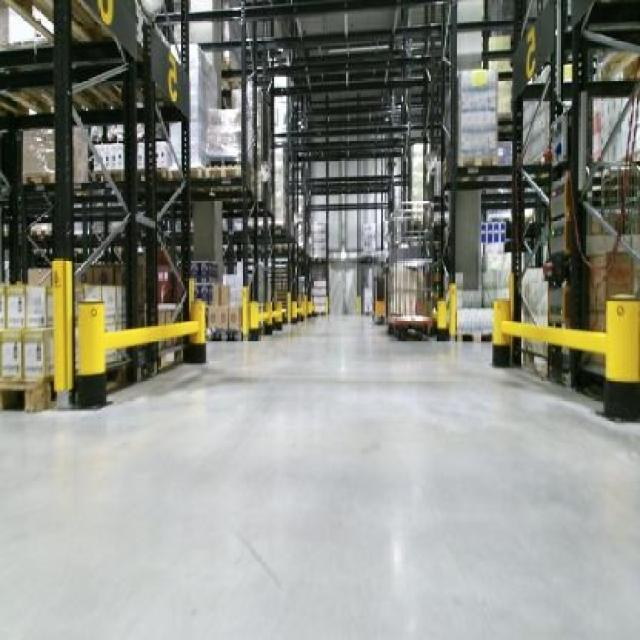floor: (0, 315, 637, 637)
pallets: (0, 283, 51, 406)
